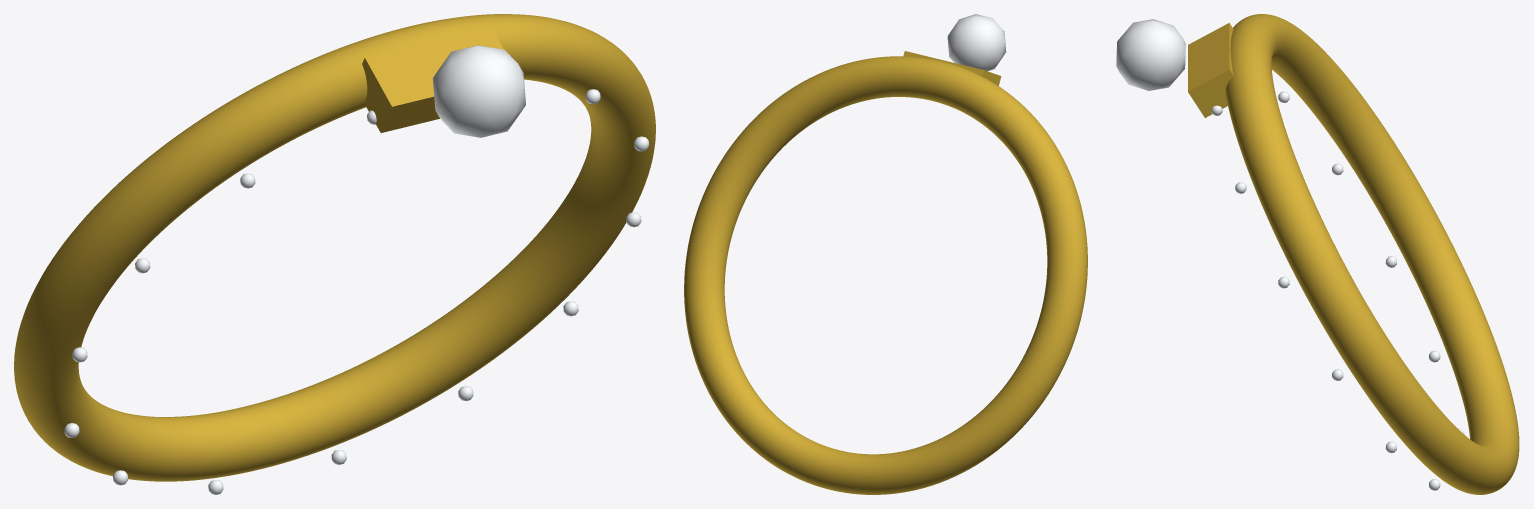
File: eternity-gold-couple-bands.glb
3 renders of one model, left to right at view 1: azimuth 30°, elevation 25°; view 2: azimuth 150°, elevation 25°; view 3: azimuth 270°, elevation 25°, orthographic. The views are drawn at different scales.
Visible parts, largest first — view 1: gold_band, hero_gemstone, gold_setting; view 2: gold_band, hero_gemstone, gold_setting; view 3: gold_band, hero_gemstone, gold_setting.
Boxes of the visible parts, <box> form: gold_band: <box>14,14,655,481</box>; hero_gemstone: <box>432,45,525,137</box>; gold_setting: <box>362,27,503,132</box>; gold_band: <box>684,56,1087,494</box>; hero_gemstone: <box>947,14,1006,71</box>; gold_setting: <box>903,51,1001,85</box>; gold_band: <box>1225,14,1519,494</box>; hero_gemstone: <box>1116,19,1185,90</box>; gold_setting: <box>1188,22,1233,117</box>.
Size of the model in its own units: 2.22 by 2.03 by 1.67.
